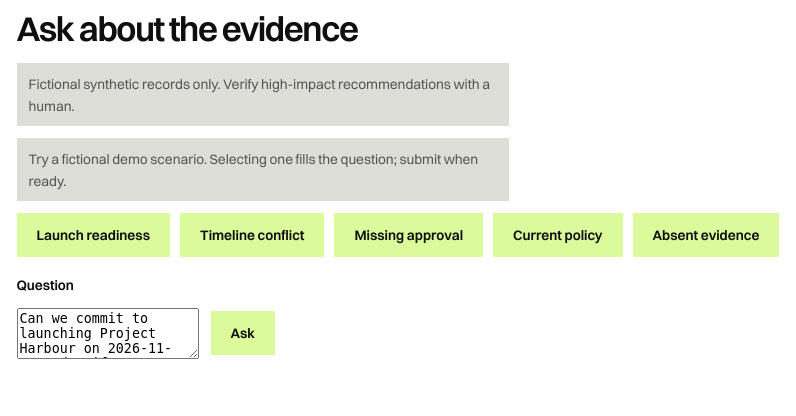
it: Ask evidence interaction › rejects unsafe source links from a malformed response
The width and height of the screenshot is (796, 416).
Replace the text in the text box labelled "Question" with "  Can Harbour launch?  " at (108, 333), box [16,308,198,359]
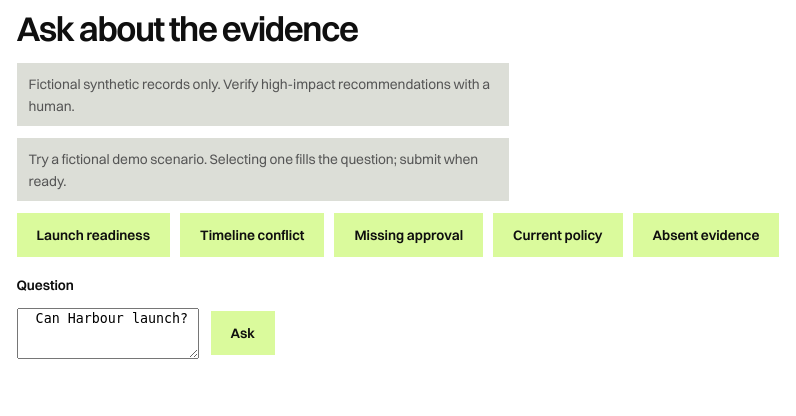
Click the button "Ask" at (243, 333), box [210,311,275,355]
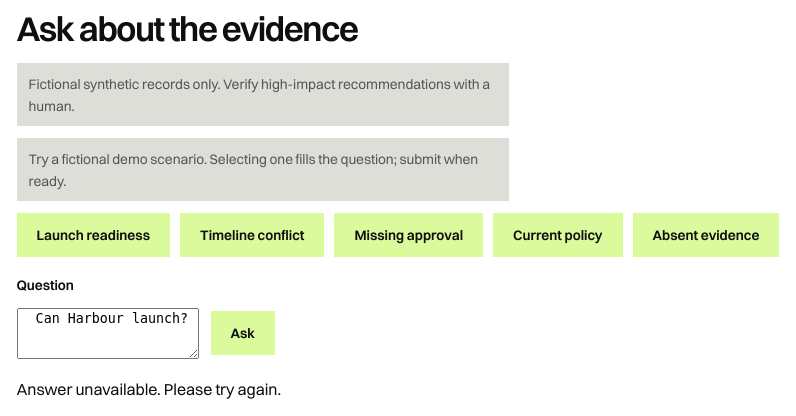
Result: the message "Answer unavailable. Please try again." is shown at [16,379,281,399]
